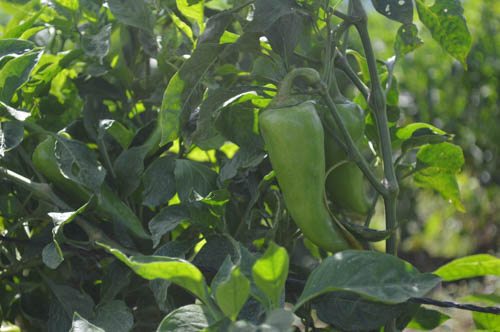ChiliPepper: (264, 106, 343, 248), (35, 141, 148, 235), (325, 101, 376, 216)
